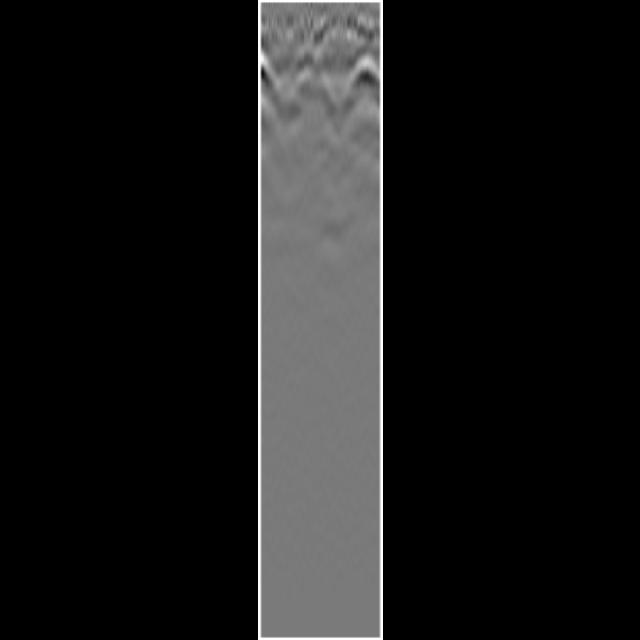hyperbola: (339, 55, 379, 112)
